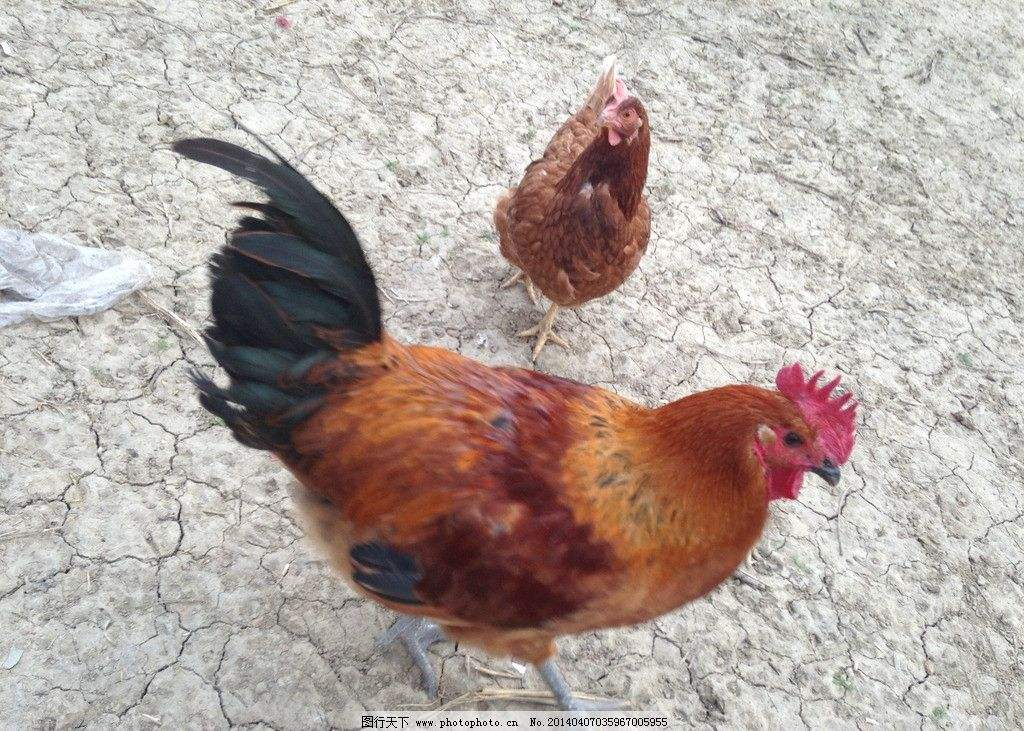chicken: (134, 125, 862, 714), (492, 60, 663, 360)
